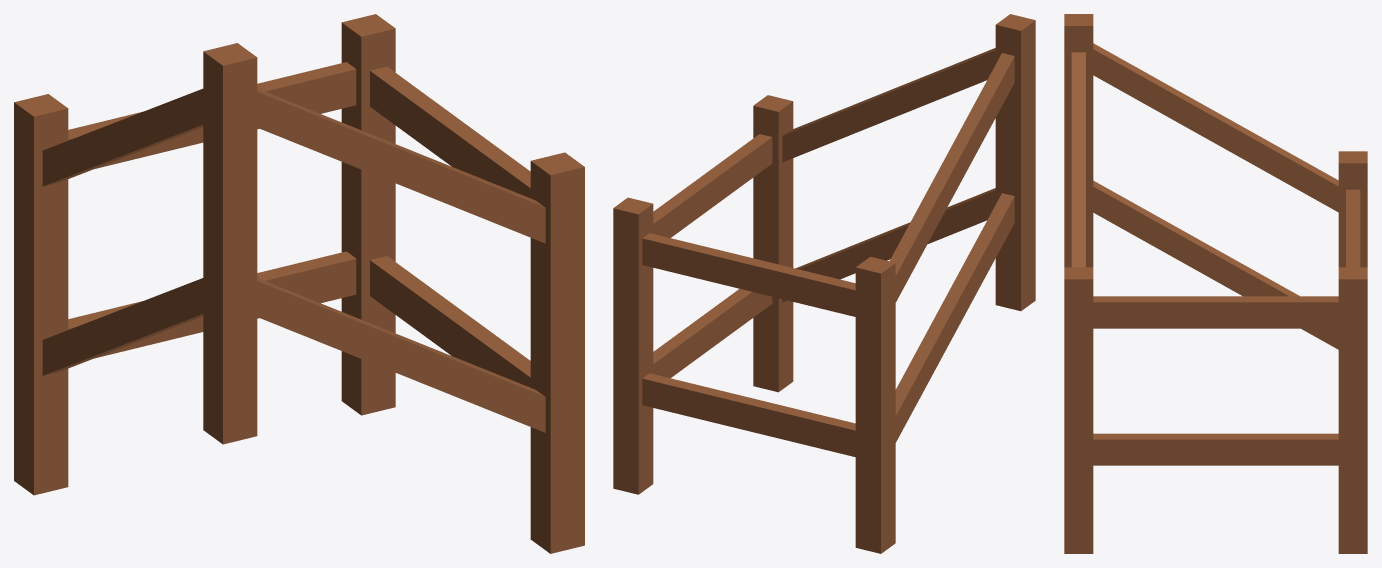
The model's file is ObstacleHighCornerUPWards.obj.
3 renders of one model, left to right at view 1: azimuth 30°, elevation 25°; view 2: azimuth 150°, elevation 25°; view 3: azimuth 270°, elevation 25°, orthographic. The views are drawn at different scales.
Visible parts, largest first — view 1: woodStructure_high.003; view 2: woodStructure_high.003; view 3: woodStructure_high.003.
Boxes of the visible parts, x1,y1,x2,y2 form: woodStructure_high.003: (14, 14, 584, 553); woodStructure_high.003: (613, 14, 1035, 553); woodStructure_high.003: (1064, 14, 1367, 553).
Size of the model in its own units: 1 by 1.5 by 1.
